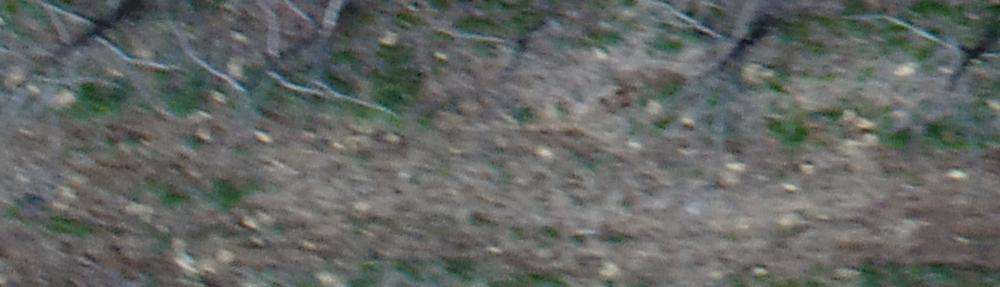apple: (175, 10, 407, 148), (624, 10, 821, 165), (10, 10, 183, 115), (857, 10, 990, 114)
